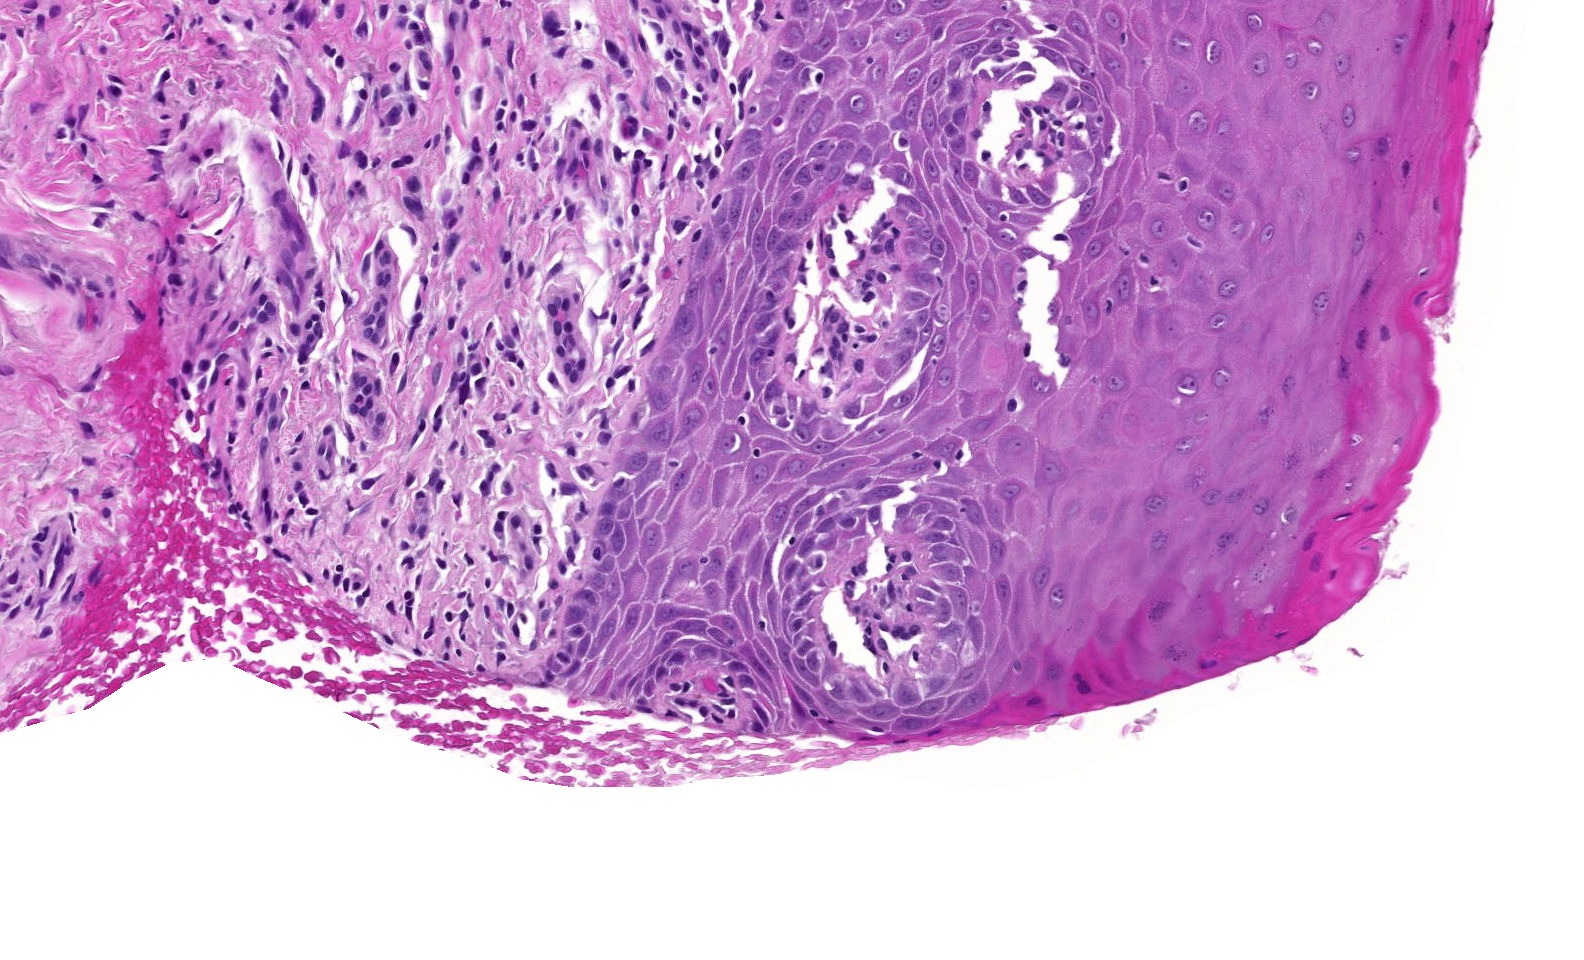epithelial: (755, 375, 787, 408), (802, 151, 835, 183), (643, 418, 675, 451), (942, 98, 975, 131), (675, 276, 708, 309), (752, 323, 785, 355), (720, 649, 752, 682), (789, 649, 821, 682), (787, 631, 820, 663), (780, 528, 812, 560), (546, 640, 579, 672), (813, 683, 846, 715), (1041, 72, 1074, 105), (1435, 12, 1467, 45), (1332, 100, 1365, 132), (1211, 271, 1243, 303), (786, 682, 818, 715), (1391, 151, 1422, 185), (37, 263, 69, 295), (15, 245, 46, 277), (272, 204, 304, 235), (261, 180, 293, 213), (668, 305, 699, 337), (729, 154, 761, 186), (754, 281, 786, 312), (804, 140, 836, 173), (886, 160, 918, 192), (741, 340, 773, 372), (888, 382, 920, 414), (602, 469, 634, 502), (664, 461, 696, 494), (787, 158, 819, 191), (642, 383, 674, 414), (887, 340, 919, 372), (893, 185, 926, 216), (893, 316, 926, 348), (679, 357, 711, 389), (780, 182, 812, 214), (707, 215, 740, 247), (742, 223, 774, 256), (771, 149, 802, 182), (660, 641, 692, 672), (560, 597, 592, 629), (689, 633, 721, 666), (774, 552, 806, 585), (571, 578, 603, 611), (797, 696, 829, 728), (653, 597, 685, 629), (601, 522, 632, 555), (791, 528, 823, 560), (809, 509, 842, 541), (821, 675, 853, 708), (644, 655, 675, 688), (841, 676, 873, 708), (743, 649, 775, 682), (856, 497, 889, 529), (651, 624, 682, 657), (927, 507, 959, 539), (813, 708, 846, 739), (700, 617, 732, 650), (595, 515, 628, 547), (952, 659, 984, 691), (666, 609, 698, 642), (738, 659, 771, 691), (567, 629, 599, 662), (935, 556, 967, 588), (860, 710, 892, 743), (1327, 352, 1359, 385), (1345, 322, 1377, 354), (1350, 271, 1381, 303), (1057, 86, 1088, 119), (1031, 36, 1064, 68), (995, 477, 1027, 508), (1068, 55, 1100, 88), (1159, 243, 1191, 275), (1140, 594, 1173, 626), (1143, 526, 1176, 558), (579, 571, 610, 605), (78, 562, 110, 593), (322, 676, 354, 708), (771, 44, 802, 76), (939, 72, 971, 104), (835, 395, 867, 427), (746, 307, 777, 338), (718, 197, 750, 229), (737, 125, 768, 156), (922, 231, 954, 263), (955, 33, 987, 65), (837, 91, 869, 122), (834, 163, 866, 195), (953, 157, 984, 189), (689, 233, 721, 265), (701, 265, 733, 297), (769, 202, 801, 233), (938, 108, 970, 139), (757, 221, 789, 252), (920, 65, 952, 96), (791, 394, 823, 426), (967, 408, 999, 439), (915, 152, 947, 183), (709, 425, 741, 456), (804, 430, 836, 462), (890, 680, 922, 712), (677, 610, 708, 642), (781, 609, 812, 641), (832, 505, 863, 537), (730, 665, 761, 696), (864, 695, 896, 727), (894, 708, 926, 739), (957, 610, 989, 642), (787, 585, 819, 617), (920, 521, 952, 552), (699, 545, 731, 576), (532, 661, 563, 693), (915, 691, 947, 722), (935, 614, 966, 645), (794, 637, 826, 669), (713, 608, 744, 640), (591, 612, 622, 644), (797, 654, 828, 686), (749, 548, 781, 580), (910, 578, 941, 610), (1366, 130, 1397, 162), (1002, 180, 1034, 212), (1381, 29, 1413, 61), (1170, 365, 1202, 396), (1293, 72, 1325, 104), (1271, 368, 1302, 400), (1049, 343, 1081, 375), (1276, 444, 1308, 475), (1342, 225, 1374, 257), (1249, 398, 1281, 430), (1017, 685, 1049, 717), (1067, 670, 1099, 702), (1209, 523, 1241, 555), (1038, 655, 1069, 687), (1189, 649, 1221, 680), (1156, 637, 1188, 669), (1042, 576, 1074, 608), (1088, 661, 1120, 693), (1116, 620, 1147, 652), (921, 15, 952, 48), (675, 405, 706, 438), (768, 229, 799, 262), (957, 266, 988, 299), (715, 562, 746, 594), (958, 683, 989, 715), (819, 507, 852, 538), (668, 552, 700, 583), (732, 651, 765, 682), (694, 575, 726, 606), (1021, 180, 1053, 211), (1010, 235, 1041, 268), (1303, 284, 1336, 315), (1002, 649, 1033, 682), (269, 263, 300, 294), (621, 445, 653, 475), (750, 336, 782, 367), (787, 414, 818, 446), (845, 466, 876, 498), (809, 25, 840, 57), (906, 262, 937, 293), (942, 128, 974, 158), (787, 695, 819, 726), (615, 603, 646, 635), (589, 506, 620, 538), (928, 595, 959, 626), (922, 533, 953, 565), (1070, 192, 1101, 224), (1021, 368, 1052, 398), (1081, 231, 1111, 263), (1025, 560, 1057, 591), (921, 669, 952, 700), (768, 636, 799, 667), (1292, 526, 1323, 557), (870, 477, 899, 508)
fibroblast and endothelial: (299, 314, 332, 348), (189, 365, 222, 398), (424, 228, 457, 262), (520, 252, 554, 285), (497, 502, 530, 535), (892, 546, 924, 580), (463, 366, 496, 398), (160, 263, 192, 295), (286, 479, 319, 512), (290, 368, 322, 401), (367, 263, 399, 295), (92, 477, 124, 509), (434, 208, 467, 241), (289, 152, 321, 185), (83, 203, 115, 235), (462, 77, 494, 110), (465, 139, 498, 172), (282, 458, 315, 491), (342, 338, 375, 371), (308, 435, 341, 468), (434, 42, 467, 75), (451, 338, 484, 371), (72, 444, 105, 477), (230, 245, 262, 277), (186, 315, 218, 348), (262, 77, 295, 110), (203, 29, 235, 62), (195, 389, 227, 422), (230, 502, 262, 534), (293, 560, 326, 593), (402, 563, 434, 595), (12, 584, 45, 617), (451, 588, 484, 620), (548, 289, 580, 322), (563, 348, 596, 380), (618, 192, 651, 225), (507, 252, 540, 285), (833, 314, 866, 346), (697, 58, 730, 91), (850, 267, 883, 300), (959, 117, 992, 149), (728, 92, 760, 125), (600, 329, 632, 362), (617, 268, 649, 301), (995, 388, 1027, 421), (1008, 96, 1041, 129), (1005, 269, 1038, 302), (995, 32, 1027, 65), (100, 74, 131, 108), (196, 355, 227, 389), (433, 307, 467, 338), (420, 408, 451, 442), (341, 382, 372, 415), (377, 51, 411, 83), (148, 117, 180, 151), (324, 565, 358, 597), (446, 598, 477, 632), (403, 514, 437, 546), (460, 595, 494, 627), (434, 609, 466, 643), (539, 252, 573, 284), (554, 432, 586, 466), (632, 147, 666, 179), (618, 158, 649, 192), (546, 324, 580, 355), (519, 391, 551, 425), (696, 20, 730, 52), (652, 29, 683, 63), (823, 340, 856, 371), (879, 612, 911, 646), (866, 629, 899, 661), (1031, 142, 1062, 175), (421, 398, 454, 430), (290, 333, 321, 366), (346, 144, 379, 175), (445, 378, 477, 410), (179, 348, 210, 380), (352, 466, 384, 499), (348, 389, 380, 422), (298, 302, 329, 335), (147, 65, 179, 97), (191, 348, 223, 380), (192, 135, 224, 168), (278, 312, 310, 345), (305, 288, 337, 320), (420, 468, 453, 499), (355, 368, 388, 400), (244, 277, 276, 310), (127, 299, 160, 331), (406, 68, 439, 100), (346, 12, 378, 45), (393, 463, 425, 495), (402, 286, 434, 318), (259, 91, 291, 123), (348, 248, 381, 280), (365, 275, 397, 308), (157, 366, 189, 398), (342, 172, 375, 204), (365, 76, 398, 108), (80, 162, 113, 194), (451, 372, 484, 404), (370, 252, 402, 285), (204, 343, 236, 375), (394, 216, 427, 248), (355, 318, 387, 351), (200, 453, 233, 485), (389, 68, 422, 100), (76, 363, 107, 396), (404, 478, 436, 511), (78, 271, 110, 303), (265, 137, 298, 169), (234, 388, 267, 420), (69, 269, 102, 301), (283, 323, 315, 355), (54, 105, 87, 137), (203, 68, 235, 100), (479, 178, 510, 211), (470, 25, 502, 57), (242, 357, 274, 389), (292, 257, 324, 290), (80, 355, 112, 388), (138, 136, 170, 169), (341, 95, 373, 127), (282, 470, 315, 502), (279, 449, 312, 481), (273, 10, 305, 42), (481, 98, 513, 131), (247, 430, 279, 462), (399, 420, 432, 452), (396, 315, 428, 348), (183, 435, 215, 468), (145, 301, 177, 334), (138, 160, 170, 192), (299, 98, 332, 130), (440, 478, 472, 511), (444, 348, 475, 380), (195, 25, 227, 57), (66, 97, 98, 129), (394, 79, 427, 111), (439, 429, 471, 462), (248, 131, 281, 163), (156, 228, 188, 260), (25, 520, 57, 552), (264, 538, 295, 571), (347, 580, 379, 612), (42, 546, 74, 578), (48, 534, 79, 567), (413, 615, 445, 648), (321, 555, 353, 588), (36, 563, 68, 595), (391, 545, 423, 577), (58, 578, 91, 610), (448, 580, 480, 612), (451, 543, 484, 575), (434, 637, 467, 669), (23, 588, 55, 619), (401, 635, 433, 667), (55, 564, 88, 595), (257, 530, 289, 563), (445, 612, 477, 644), (388, 529, 421, 560), (396, 552, 429, 584), (471, 566, 503, 598), (549, 311, 582, 343), (595, 32, 627, 65), (602, 138, 635, 170), (817, 332, 849, 365), (513, 108, 544, 140), (662, 209, 694, 242), (556, 355, 587, 388), (548, 301, 580, 333), (551, 195, 583, 228), (810, 365, 842, 397), (582, 131, 614, 163), (656, 38, 688, 71), (690, 142, 722, 174), (601, 362, 632, 395), (701, 122, 733, 155), (615, 106, 648, 138), (842, 349, 873, 382), (579, 85, 611, 118), (872, 229, 904, 262), (810, 375, 842, 408), (645, 66, 677, 98), (747, 9, 780, 41), (873, 255, 905, 288), (971, 91, 1002, 123), (505, 142, 537, 173), (860, 233, 892, 266), (820, 307, 853, 338), (816, 345, 849, 377), (663, 11, 696, 43), (646, 168, 678, 200), (785, 357, 817, 389), (531, 147, 563, 179), (670, 108, 701, 140), (537, 308, 570, 340), (549, 350, 582, 382), (729, 60, 761, 92), (808, 252, 841, 284), (520, 514, 552, 547), (668, 670, 700, 702), (875, 543, 907, 575), (513, 546, 544, 578), (885, 540, 918, 572), (554, 538, 586, 571), (499, 614, 531, 646), (899, 638, 931, 671), (627, 691, 658, 723), (744, 700, 776, 732), (875, 574, 907, 606), (833, 571, 866, 602), (898, 610, 930, 643), (643, 693, 675, 725), (1056, 108, 1088, 139), (1018, 94, 1050, 127), (1368, 316, 1401, 348), (184, 69, 218, 100), (473, 592, 503, 626), (677, 29, 711, 60), (851, 235, 881, 269), (615, 28, 649, 59), (386, 145, 417, 177), (397, 168, 429, 199), (378, 343, 410, 375), (468, 470, 500, 502), (302, 89, 334, 121), (319, 42, 351, 74), (459, 132, 491, 164), (201, 363, 233, 395), (378, 98, 410, 130), (171, 358, 203, 389), (436, 226, 467, 258), (344, 365, 376, 396), (315, 35, 346, 67), (472, 131, 503, 163), (157, 252, 189, 284), (410, 46, 441, 78), (71, 412, 103, 444), (249, 299, 281, 331), (473, 461, 505, 492), (171, 389, 203, 421), (68, 131, 100, 163), (341, 393, 372, 425), (334, 419, 365, 451), (233, 8, 265, 40), (370, 241, 402, 273), (167, 105, 199, 137), (296, 166, 328, 198), (439, 3, 471, 35), (157, 241, 189, 273), (395, 205, 427, 237), (408, 264, 440, 295), (122, 200, 154, 232), (289, 3, 320, 35), (270, 147, 302, 179), (219, 5, 251, 36), (282, 422, 313, 454), (352, 60, 384, 92), (334, 139, 365, 171), (167, 198, 199, 230), (53, 267, 85, 299), (287, 308, 319, 340), (414, 127, 446, 158), (193, 276, 225, 308), (286, 343, 318, 375), (393, 593, 424, 625), (393, 581, 424, 612), (338, 567, 370, 599), (375, 590, 406, 622), (31, 616, 62, 648), (432, 627, 464, 659), (425, 547, 457, 578), (369, 506, 401, 538), (26, 560, 58, 592), (477, 540, 509, 572), (91, 497, 122, 529), (273, 496, 304, 528), (21, 530, 53, 562), (606, 354, 638, 386), (539, 292, 570, 324), (625, 149, 656, 181), (621, 303, 653, 335), (852, 278, 884, 310), (571, 48, 603, 79), (497, 341, 528, 372), (593, 367, 625, 398), (546, 363, 578, 395), (706, 24, 738, 55), (817, 256, 849, 288), (682, 41, 714, 72), (596, 301, 628, 333), (545, 335, 577, 367), (663, 48, 695, 79), (834, 220, 866, 251), (877, 218, 909, 250), (632, 331, 664, 362), (864, 262, 896, 293), (569, 455, 601, 487), (562, 147, 594, 179), (851, 319, 883, 351), (785, 251, 817, 283), (810, 226, 842, 258), (775, 342, 807, 374), (816, 299, 847, 331), (654, 115, 686, 147), (826, 197, 858, 229), (644, 19, 675, 51), (608, 266, 639, 298), (568, 140, 600, 172), (585, 300, 617, 332), (872, 209, 904, 241), (627, 273, 658, 305), (517, 63, 549, 95), (587, 165, 619, 197), (546, 146, 578, 178), (589, 421, 621, 453), (503, 84, 535, 115), (821, 221, 853, 252), (717, 72, 749, 104), (508, 389, 540, 421), (498, 243, 530, 275), (812, 214, 844, 246), (690, 29, 722, 61), (556, 342, 587, 374), (668, 685, 699, 717), (816, 629, 847, 661), (655, 696, 687, 728), (701, 701, 733, 732), (741, 710, 773, 742), (870, 650, 902, 682), (890, 558, 922, 590), (497, 594, 528, 626), (801, 546, 833, 577), (553, 646, 585, 678), (893, 603, 924, 635), (559, 521, 591, 552), (525, 589, 557, 620), (517, 627, 549, 659), (1044, 221, 1076, 252), (1010, 334, 1042, 366), (1043, 120, 1075, 152), (405, 409, 436, 442), (396, 91, 427, 123), (451, 158, 482, 191), (401, 306, 431, 338), (250, 477, 281, 509), (470, 420, 502, 451), (249, 288, 279, 320), (144, 82, 177, 112), (346, 77, 377, 110), (169, 377, 201, 408), (180, 143, 210, 175), (239, 269, 272, 300), (387, 367, 417, 400), (153, 20, 186, 51), (337, 451, 368, 483), (226, 372, 257, 405), (318, 284, 351, 315), (477, 452, 508, 485), (217, 308, 248, 341), (91, 192, 121, 225), (5, 15, 35, 48), (279, 285, 312, 316), (120, 294, 150, 327), (372, 623, 403, 655), (0, 562, 31, 594), (674, 15, 705, 48), (499, 314, 530, 346), (614, 115, 645, 148), (631, 117, 662, 149), (561, 108, 592, 140), (675, 51, 708, 82), (817, 245, 847, 277), (715, 692, 746, 725), (852, 615, 883, 648), (843, 552, 873, 585), (709, 678, 740, 711), (677, 689, 709, 720), (867, 620, 899, 651), (1147, 158, 1178, 191), (397, 189, 429, 220), (330, 283, 362, 314), (460, 352, 492, 383), (406, 20, 438, 51), (444, 365, 475, 395), (365, 232, 396, 264), (399, 11, 430, 43), (458, 147, 490, 178), (353, 378, 385, 409), (258, 408, 290, 438), (358, 305, 389, 335), (215, 421, 246, 453), (361, 404, 393, 435), (303, 274, 335, 305), (293, 326, 325, 357), (439, 55, 470, 87), (311, 414, 343, 445), (225, 385, 257, 415), (177, 71, 207, 103), (307, 457, 338, 488), (210, 458, 241, 490), (24, 5, 55, 35), (71, 371, 102, 403), (364, 290, 395, 322), (215, 475, 246, 507), (412, 405, 444, 436), (100, 63, 131, 94), (390, 8, 421, 40), (257, 387, 289, 418), (482, 502, 513, 533), (0, 595, 32, 626), (253, 498, 285, 529), (296, 496, 327, 528), (536, 12, 568, 43), (724, 67, 755, 98), (826, 320, 858, 351), (666, 156, 697, 188), (568, 128, 599, 160), (536, 455, 568, 486), (698, 156, 729, 188), (773, 305, 804, 335), (813, 235, 845, 266), (553, 473, 585, 504), (536, 362, 567, 394), (626, 26, 657, 57), (518, 148, 549, 180), (615, 369, 647, 400), (588, 410, 619, 442), (810, 352, 841, 384), (505, 346, 536, 377), (683, 162, 714, 194), (708, 35, 739, 67), (699, 139, 731, 170), (856, 629, 888, 660), (892, 616, 922, 648), (688, 694, 718, 726), (516, 532, 546, 564), (1041, 108, 1073, 138), (1009, 50, 1040, 82), (359, 147, 391, 177), (1027, 97, 1057, 130), (606, 45, 637, 76), (623, 139, 654, 170), (545, 36, 576, 67), (662, 679, 692, 710)
inflammatory: (474, 430, 507, 463)
lymphocyte: (247, 389, 279, 422), (369, 370, 402, 403), (793, 228, 826, 260), (497, 100, 530, 132), (876, 246, 909, 278), (899, 438, 932, 471), (969, 138, 1002, 170), (794, 355, 828, 387), (279, 372, 315, 403), (44, 117, 76, 149), (217, 366, 249, 398), (268, 511, 300, 543), (444, 632, 476, 663), (680, 218, 712, 251), (740, 435, 772, 468), (699, 177, 731, 209), (886, 125, 918, 157), (671, 79, 704, 111), (540, 196, 573, 228), (582, 537, 613, 569), (541, 558, 573, 591), (505, 605, 537, 636), (1027, 109, 1059, 142), (1167, 169, 1198, 202), (1002, 136, 1035, 168), (174, 398, 205, 432), (164, 222, 196, 254), (250, 338, 282, 370), (252, 523, 284, 555), (311, 558, 343, 590), (464, 652, 496, 684), (725, 403, 757, 435), (803, 62, 835, 94), (681, 83, 713, 114), (705, 132, 737, 164), (730, 379, 761, 411), (562, 9, 594, 41), (941, 438, 973, 470), (744, 609, 776, 641), (893, 591, 924, 623), (537, 568, 569, 600), (546, 551, 578, 583), (657, 670, 689, 702), (1137, 264, 1169, 295), (1093, 290, 1125, 322), (433, 599, 464, 632), (761, 395, 794, 426), (761, 0, 794, 31), (655, 97, 688, 128), (866, 610, 896, 643), (252, 327, 284, 358), (448, 317, 480, 348), (267, 521, 298, 552), (921, 447, 953, 478), (682, 148, 714, 179), (844, 314, 875, 345), (630, 242, 661, 274), (714, 665, 744, 696), (561, 615, 592, 646), (1035, 10, 1067, 41), (1128, 241, 1159, 273)
